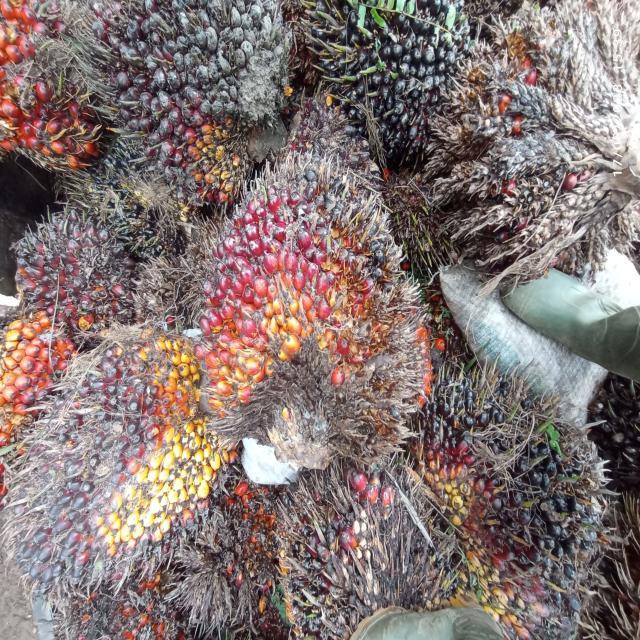fraksi 00: (7, 328, 238, 590), (418, 330, 600, 598), (89, 0, 301, 205), (310, 0, 484, 152), (73, 126, 198, 279)
fraksi 1: (0, 166, 141, 352)
fraksi 3: (176, 115, 464, 539)
